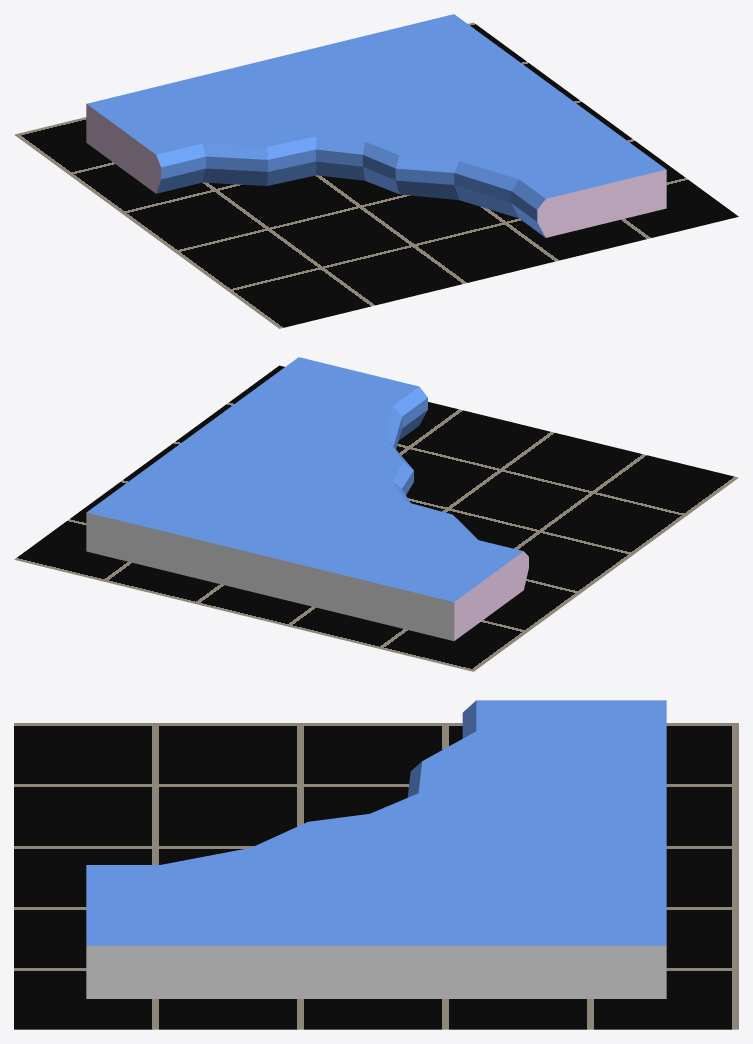
File: Iceberg_Curve_Inner_4x4_2.glb
3 views of the same model, one above another, from view 1: azimuth 30°, elevation 25°; view 2: azimuth 150°, elevation 25°; view 3: azimuth 270°, elevation 25° (orthographic). The views are drawn at different scales.
Parts seen in each view (by area): view 1: Iceberg_Curve_Inner_4x4_2, Floor; view 2: Iceberg_Curve_Inner_4x4_2, Floor; view 3: Iceberg_Curve_Inner_4x4_2, Floor.
Part boxes in pixels (box(x1,y1,x2,y2)): Iceberg_Curve_Inner_4x4_2: box(86, 14, 666, 237); Floor: box(14, 22, 738, 328); Iceberg_Curve_Inner_4x4_2: box(86, 357, 528, 640); Floor: box(14, 365, 738, 671); Iceberg_Curve_Inner_4x4_2: box(86, 700, 666, 998); Floor: box(14, 723, 738, 1029).
Size of the model in its own units: 500 by 40.63 by 500.
Materials: 4 (1 with a texture image).
